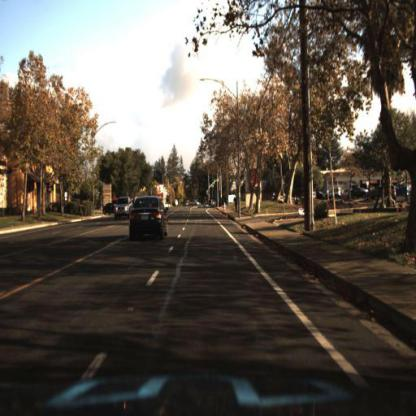car: (128, 195, 170, 245), (117, 197, 135, 222), (102, 204, 123, 220), (350, 187, 369, 202), (328, 188, 346, 202), (209, 200, 218, 208), (190, 200, 200, 207), (394, 185, 398, 201)
pedestrian: (233, 193, 240, 218)
